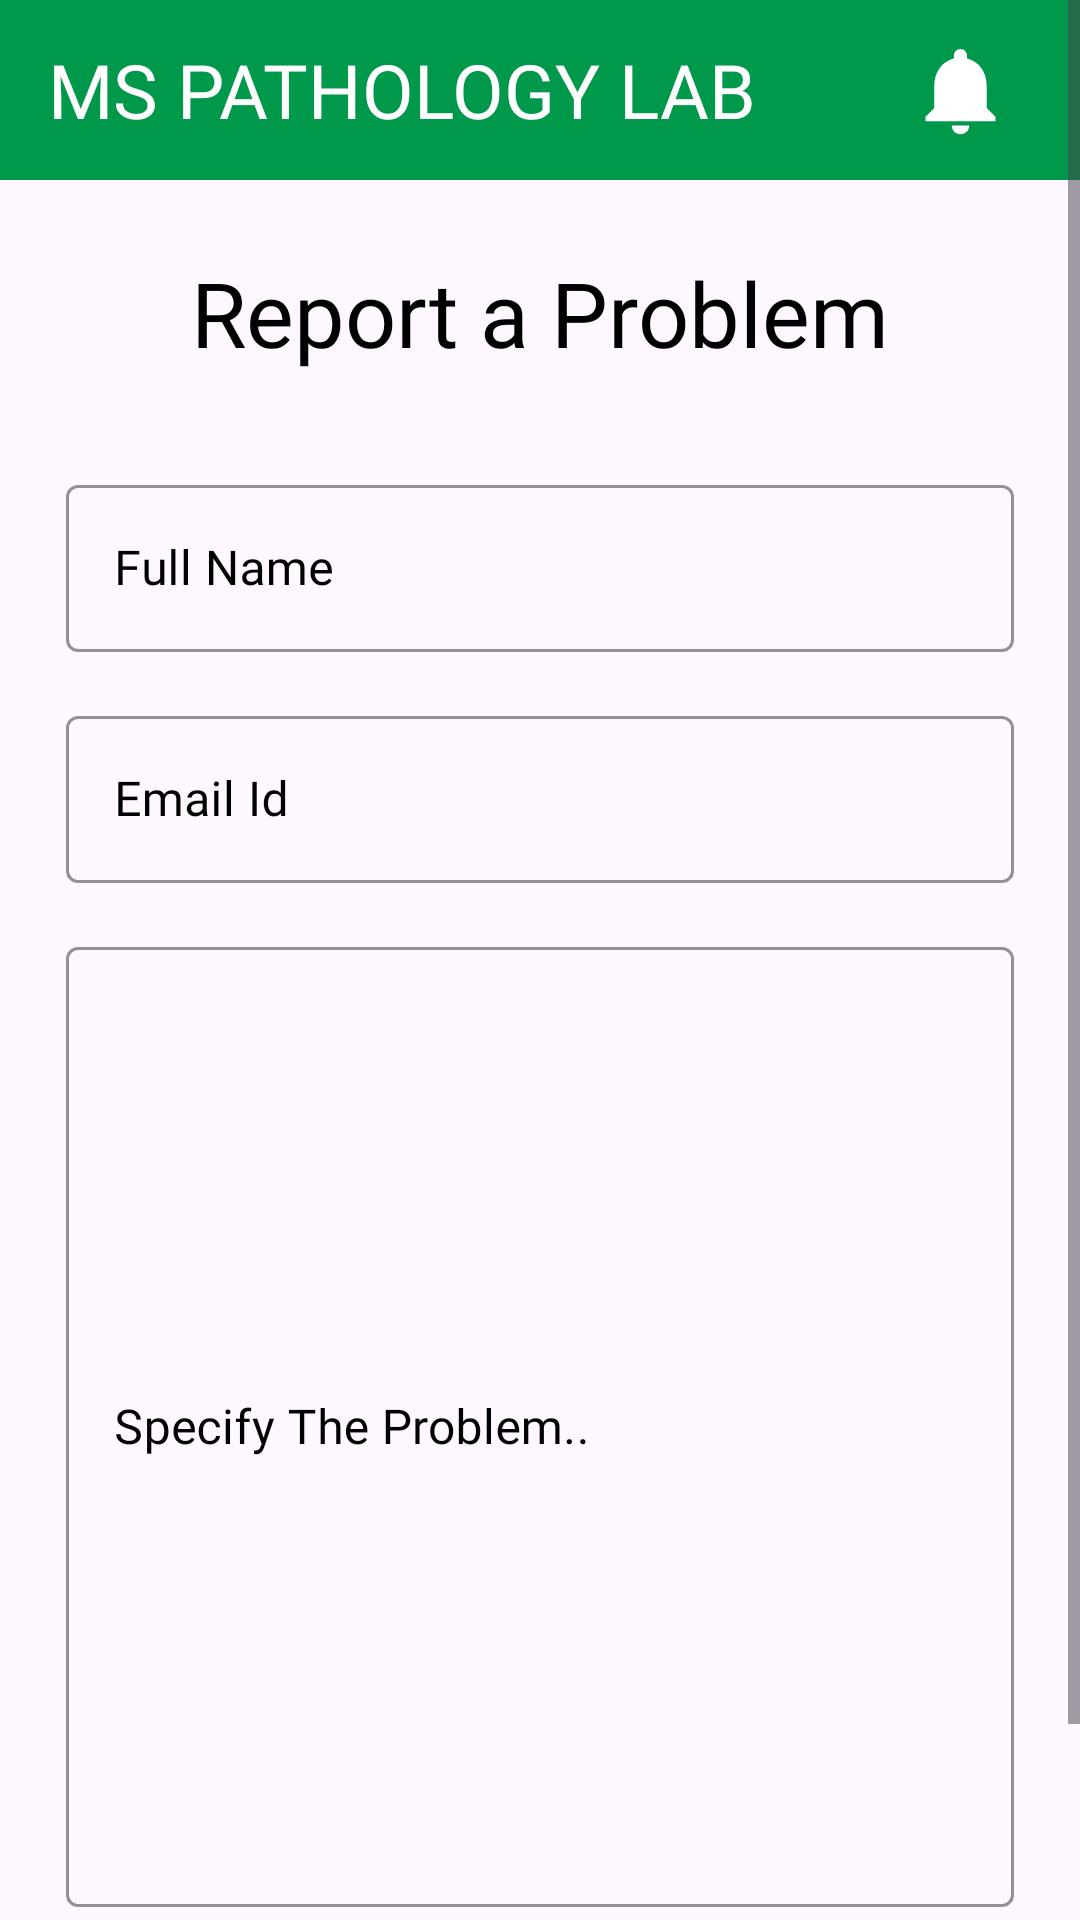

Named icons in this screenshot (1080×1920) and their bounding boxes, (x1, y1, x2, y2):
Notification Button: (925, 49, 996, 135)
